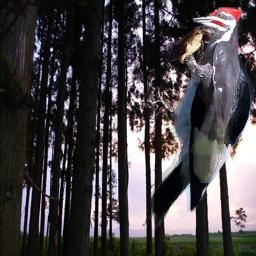Cuckoo: (161, 29, 209, 64)
Woodpecker: (137, 10, 254, 238), (169, 7, 245, 155)
